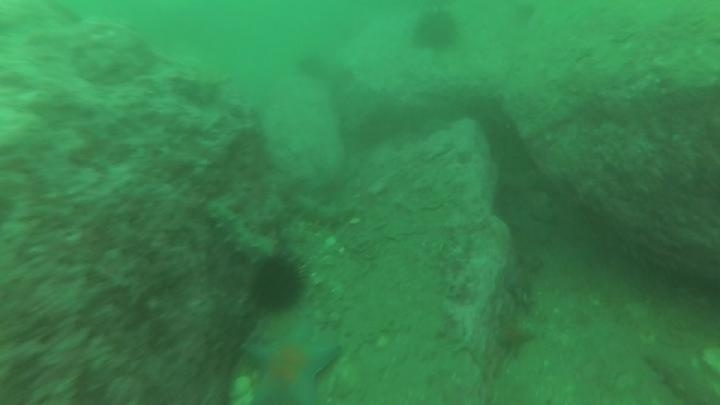echinus: (245, 250, 311, 316), (408, 7, 462, 55), (293, 51, 330, 82)
holothurian: (204, 196, 280, 267), (288, 189, 358, 231)
starfish: (241, 319, 343, 405), (492, 313, 538, 360), (499, 256, 539, 303)
